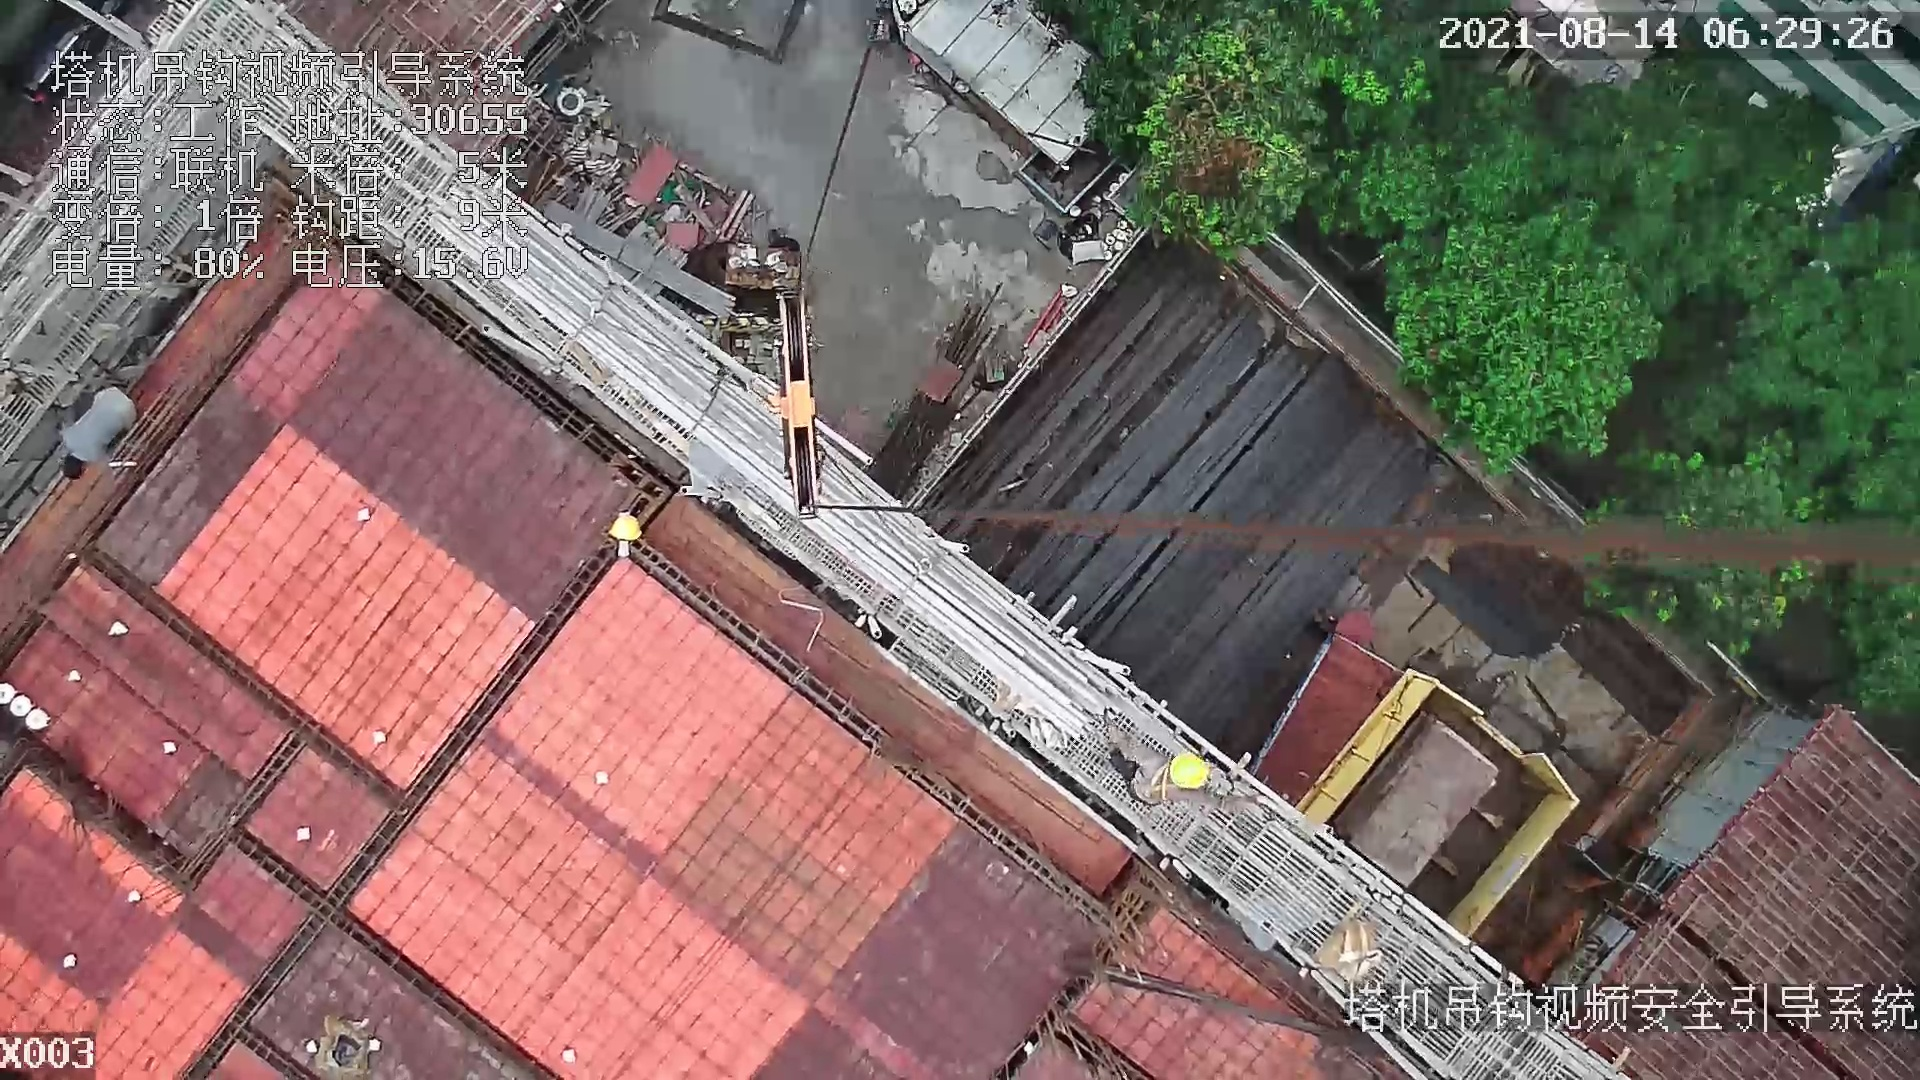helmet: (1173, 753, 1210, 791), (605, 510, 646, 540)
hook: (769, 283, 824, 514)
person: (1104, 719, 1265, 821)
rebar: (954, 255, 1437, 696)
